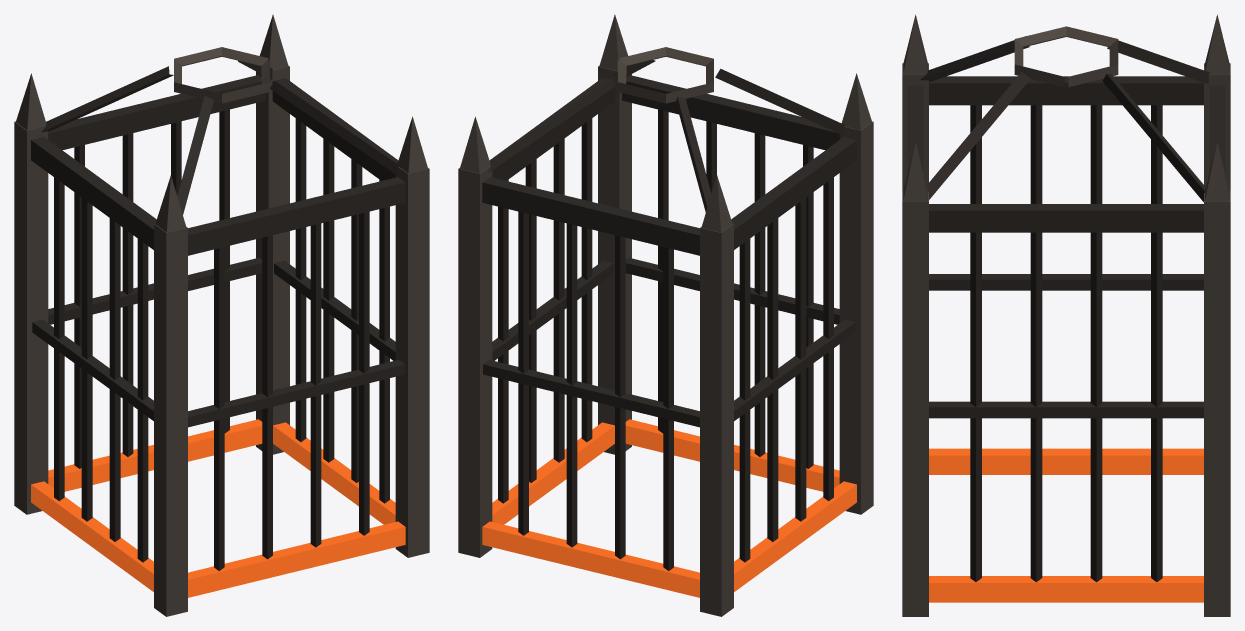
Rendered from dk_cage.glb.
3 views of the same model, side by side, from view 1: azimuth 30°, elevation 25°; view 2: azimuth 150°, elevation 25°; view 3: azimuth 270°, elevation 25° (orthographic). The views are drawn at different scales.
Visible parts, largest first — view 1: dk_cage; view 2: dk_cage; view 3: dk_cage.
Part boxes in pixels (x1,y1,x2,y2): dk_cage: (14,14,429,616); dk_cage: (458,14,873,616); dk_cage: (902,14,1230,616).
Size of the model in its own units: 2.44 by 4.06 by 2.44.
2 materials, 2 textured.
